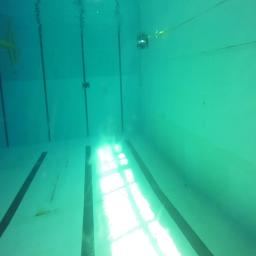Full: (82, 82, 89, 88)
front: (137, 39, 149, 48)
